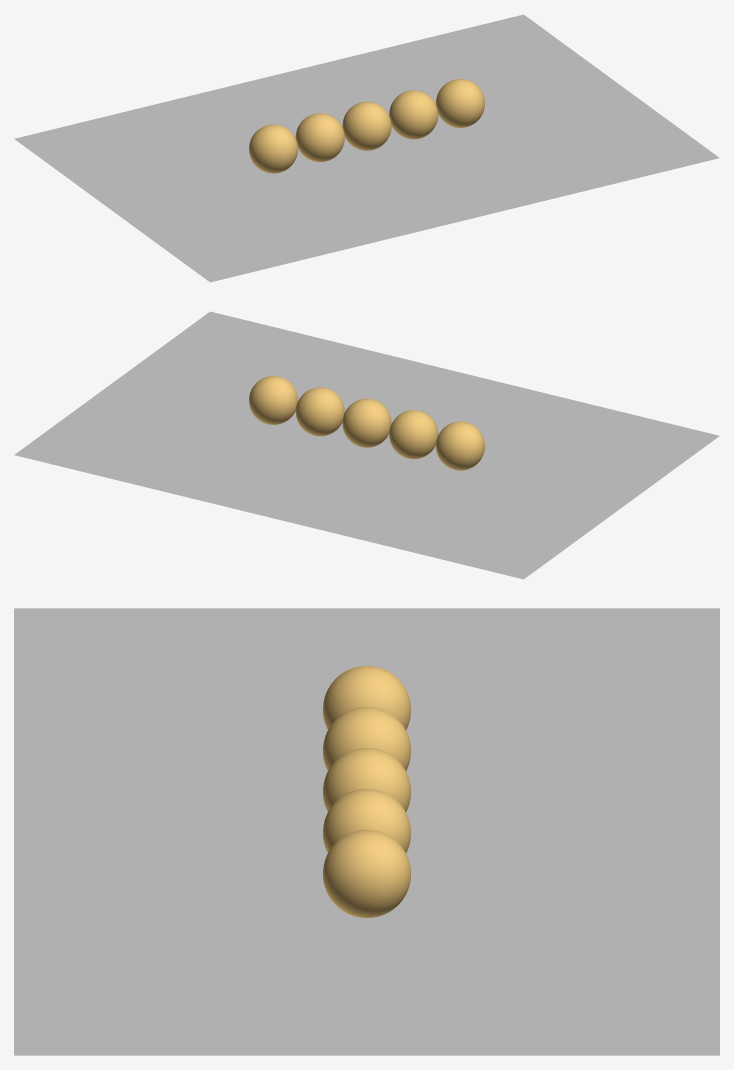
Rendered from highlight_compare.gltf.
The picture shows the model from 3 angles, top to bottom: view 1: azimuth 30°, elevation 25°; view 2: azimuth 150°, elevation 25°; view 3: azimuth 270°, elevation 25°; orthographic projection. The views are drawn at different scales.
Size of the model in its own units: 24 by 2 by 16.
